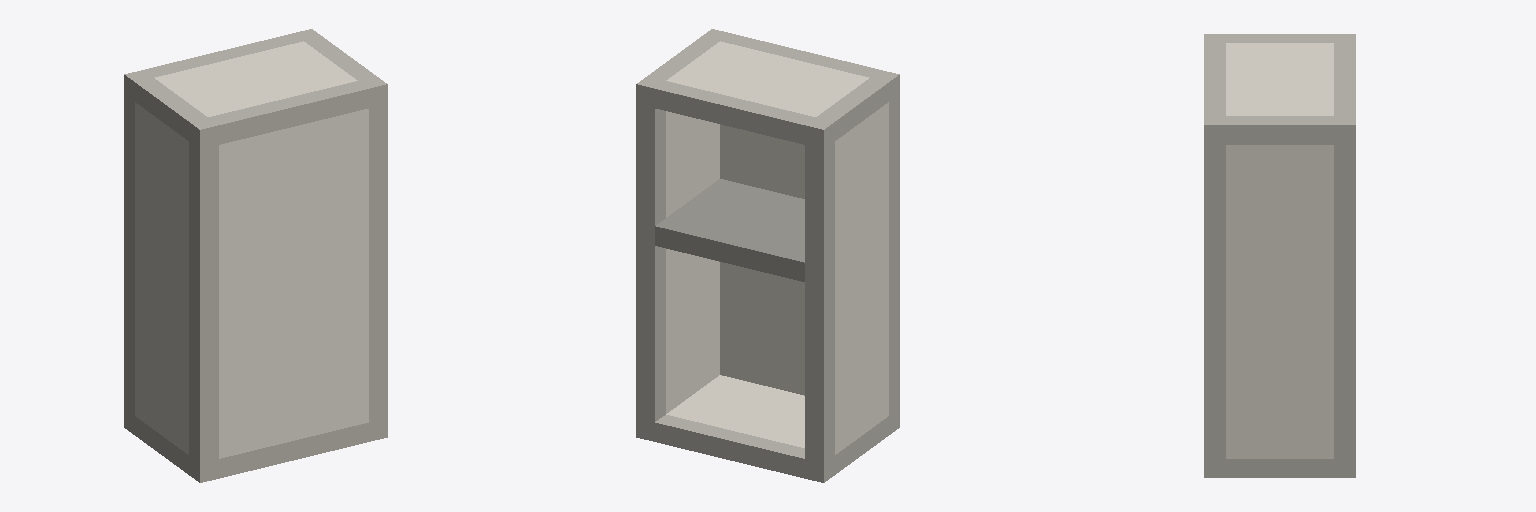
The picture shows the model from 3 angles: view 1: azimuth 30°, elevation 25°; view 2: azimuth 150°, elevation 25°; view 3: azimuth 270°, elevation 25°; orthographic projection.
Visible parts, largest first — view 1: FridgeStatic; view 2: FridgeStatic; view 3: FridgeStatic.
Part boxes in pixels (x1,y1,x2,y2): FridgeStatic: (124,29,387,482); FridgeStatic: (636,29,899,482); FridgeStatic: (1204,34,1355,477).
Size of the model in its own units: 1 by 1.8 by 0.7.
Materials: 1 (1 with a texture image).